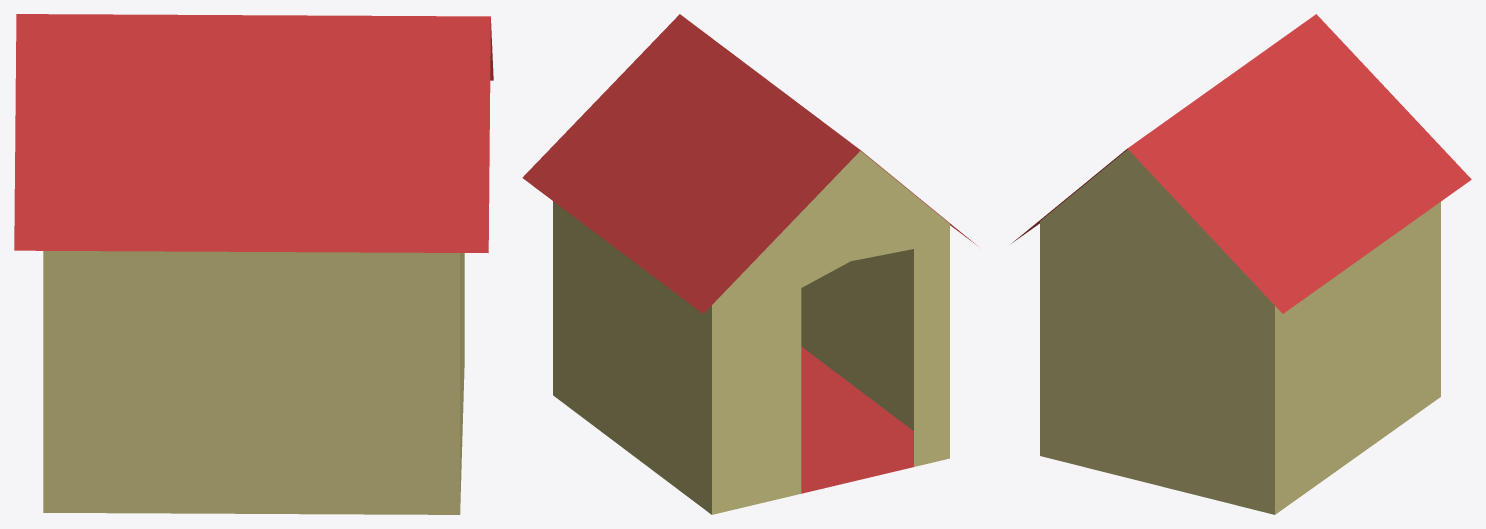
3 views of the same model, side by side, from view 1: azimuth 30°, elevation 25°; view 2: azimuth 150°, elevation 25°; view 3: azimuth 270°, elevation 25° (orthographic). The views are drawn at different scales.
Parts seen in each view (by area): view 1: group_5, group_3, group_4; view 2: group_5, group_3, group_6; view 3: group_5, group_3.
Part boxes in pixels (bbox=[...]): group_5: bbox=[43, 251, 464, 514]; group_3: bbox=[14, 14, 490, 253]; group_4: bbox=[14, 14, 493, 252]; group_5: bbox=[553, 151, 949, 514]; group_3: bbox=[522, 14, 977, 313]; group_6: bbox=[801, 346, 913, 493]; group_5: bbox=[1040, 149, 1440, 514]; group_3: bbox=[1127, 14, 1471, 313].
Bounding box in the file's own units: 16.01 × 15.4 × 12.5.
